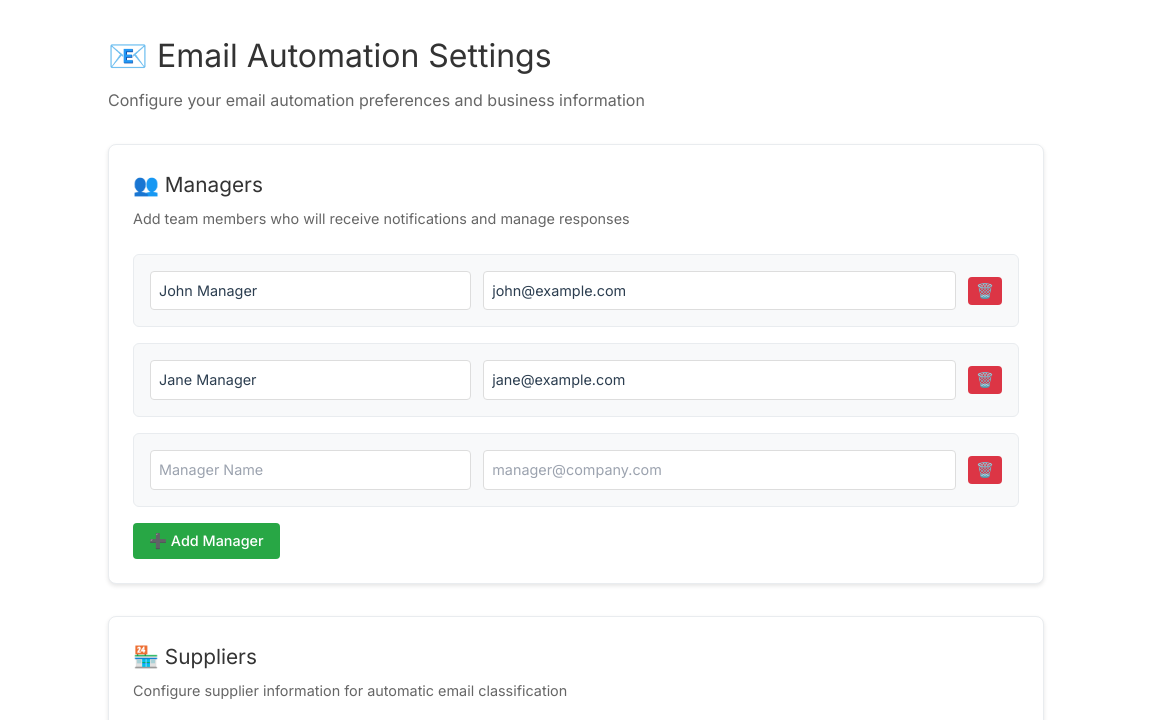
it: EmailAutomationSettings › should remove manager when remove button is clicked
Expected: the 1st field showing "John Manager" is shown, [150,271,471,310]
// Find and click the first remove button (for John Manager)
Click the 1st button titled "Remove Manager" at (985, 291), box [968,277,1002,305]
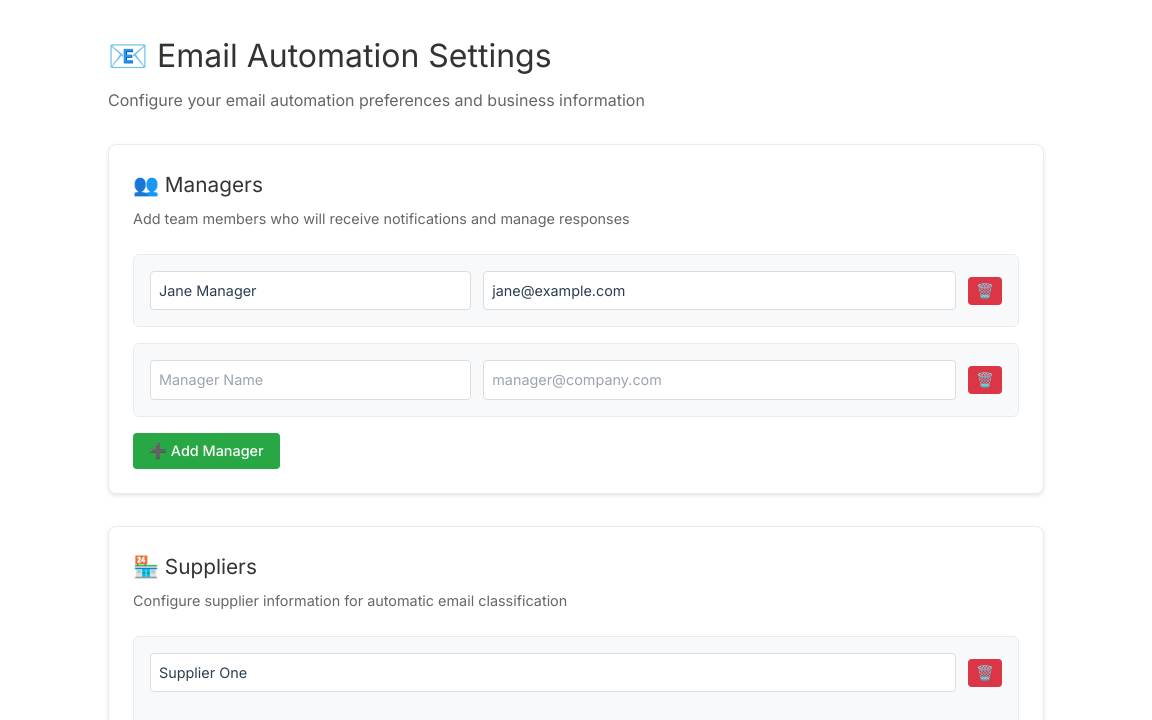
Expected: the field showing "John Manager" is not shown
Expected: the 1st field showing "Jane Manager" is shown, [150,271,471,310]
